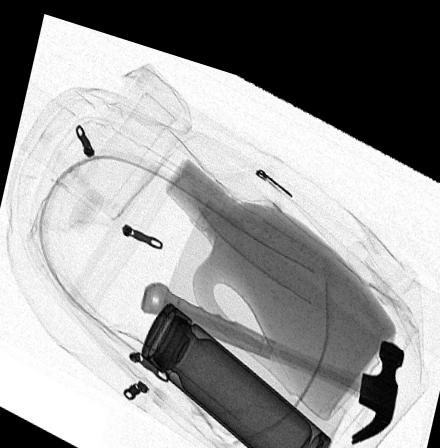Hammer: (139, 270, 403, 421)
